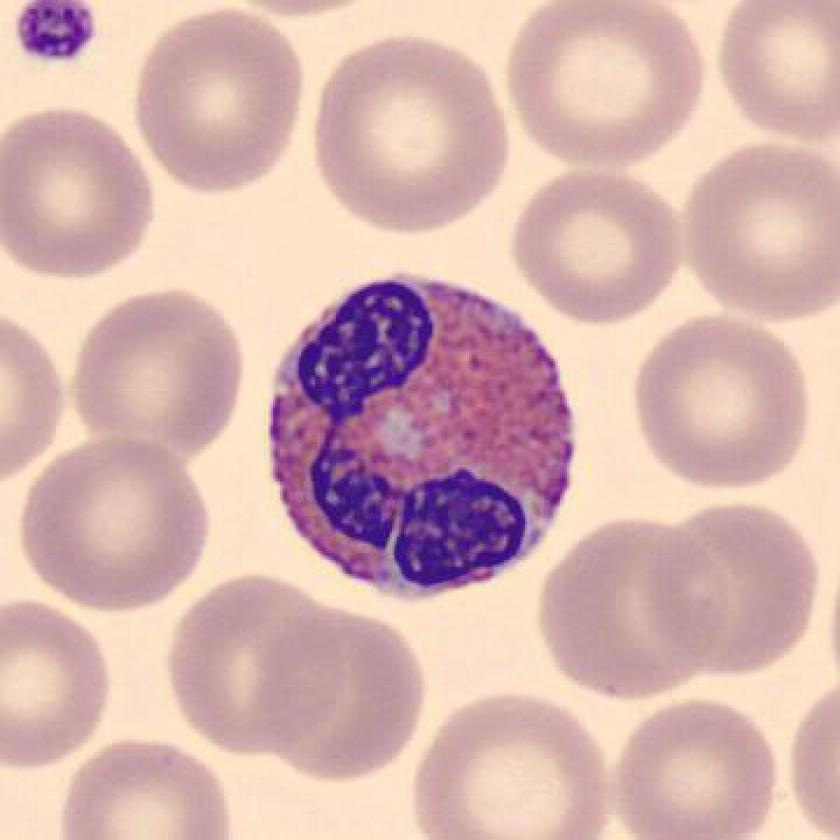eosinophil: (262, 263, 589, 617)
